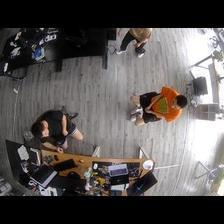normal: (29, 104, 84, 154), (128, 84, 187, 129)
